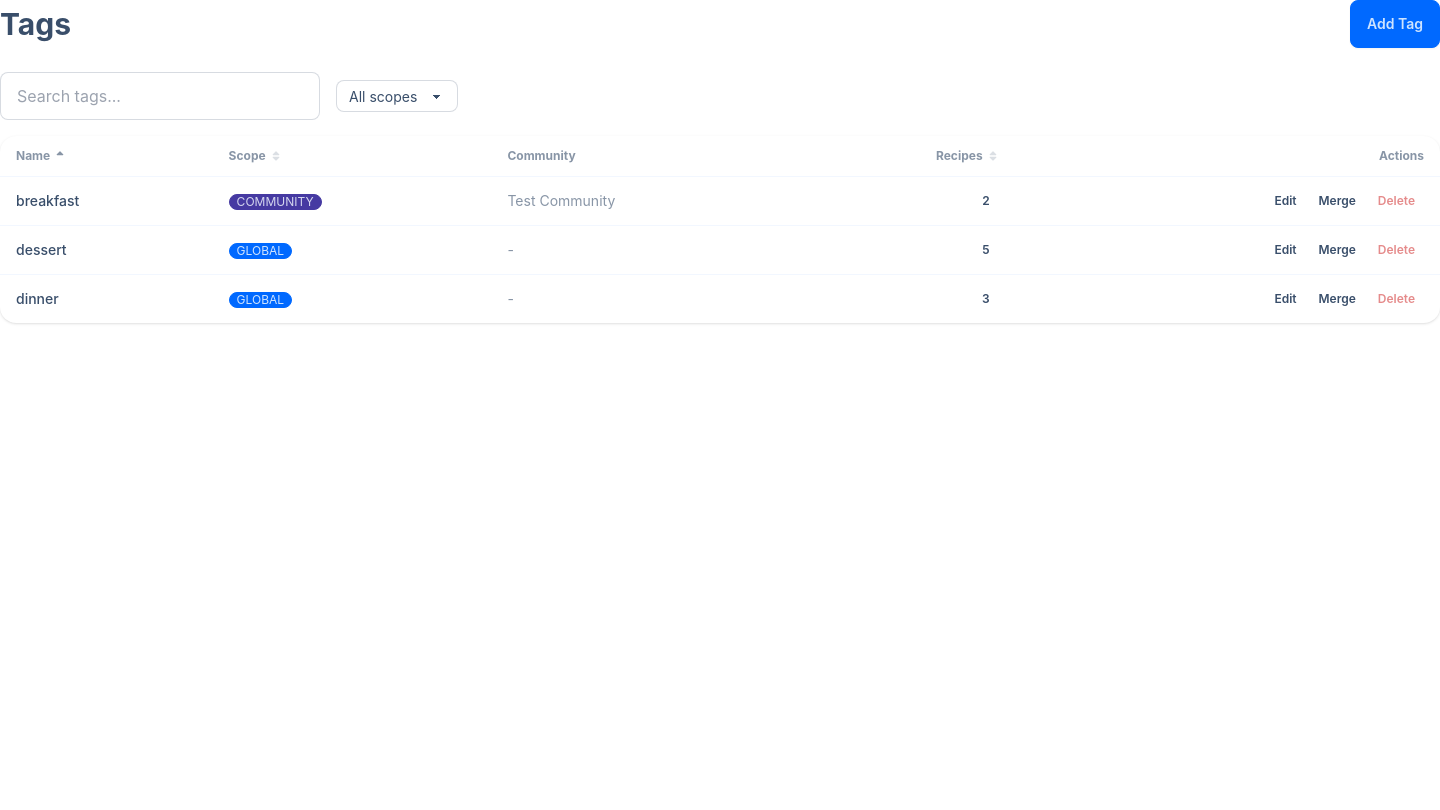
Test case: AdminTagsPage › should create a new tag
Click the button "Add Tag". click: x=1395, y=24
box: [1350, 0, 1439, 48]
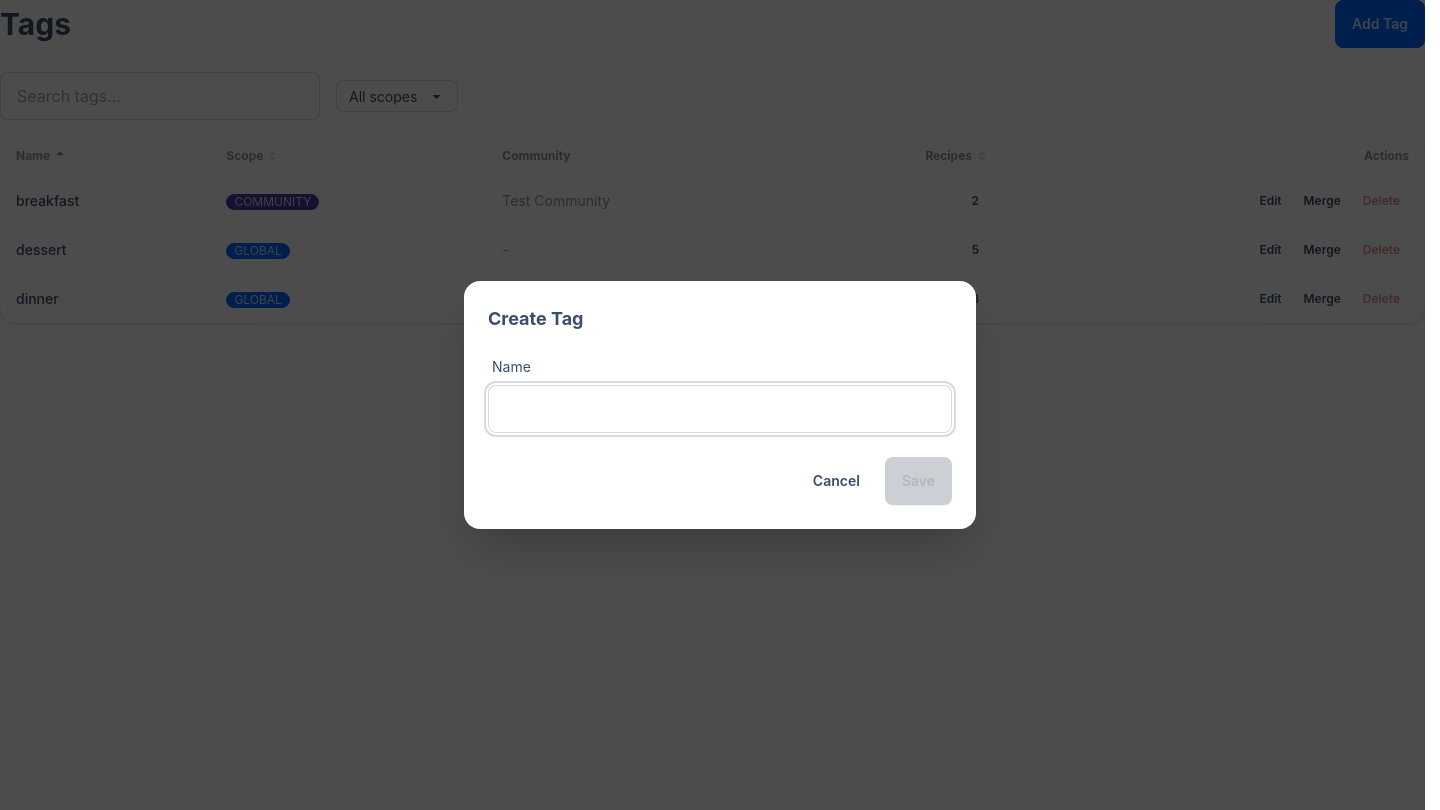
Note: Modal input is the last one (search is first)
Type "newtag" into the field. click: x=720, y=409
box: [488, 385, 952, 433]
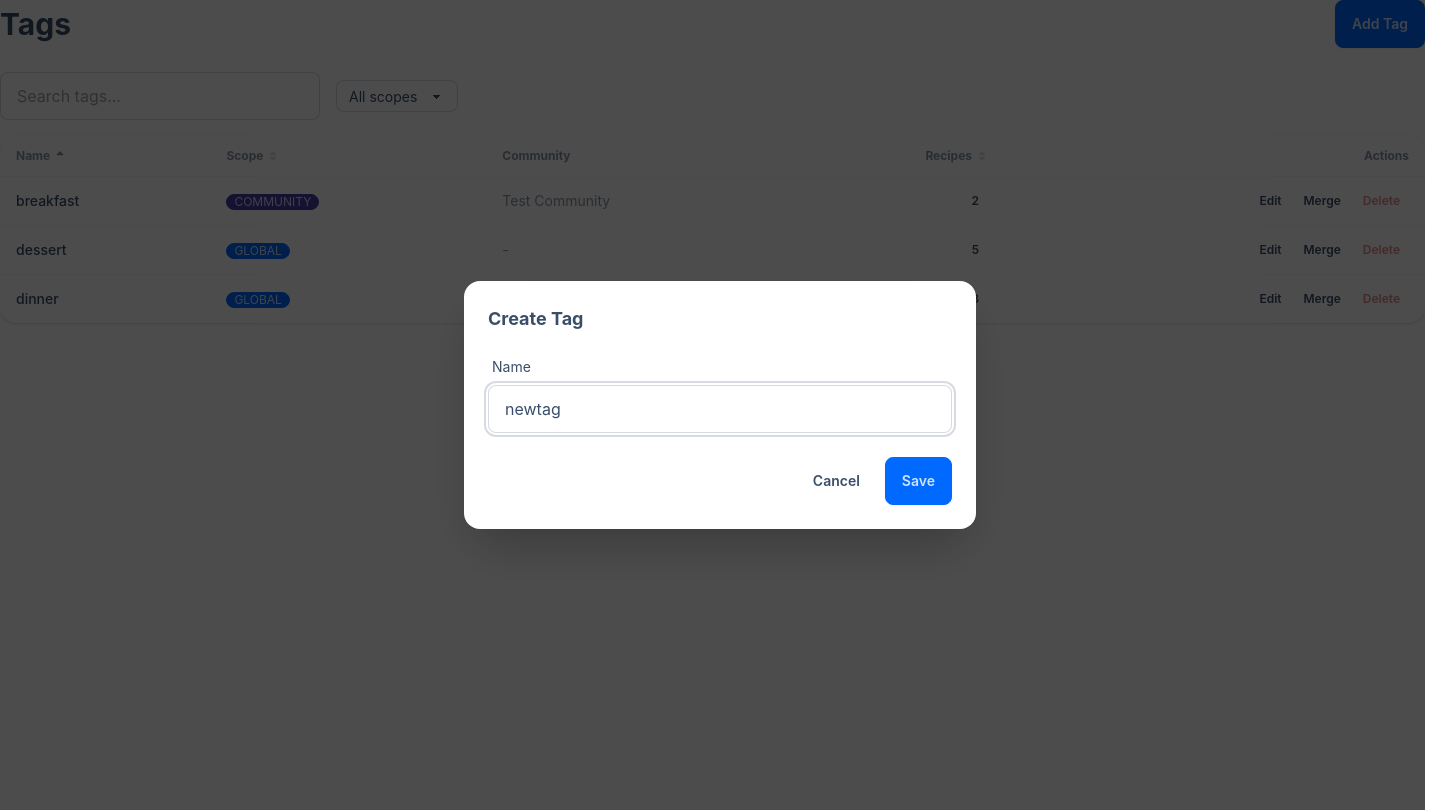
Click the button "Save". click: x=918, y=481
box: [885, 457, 952, 505]
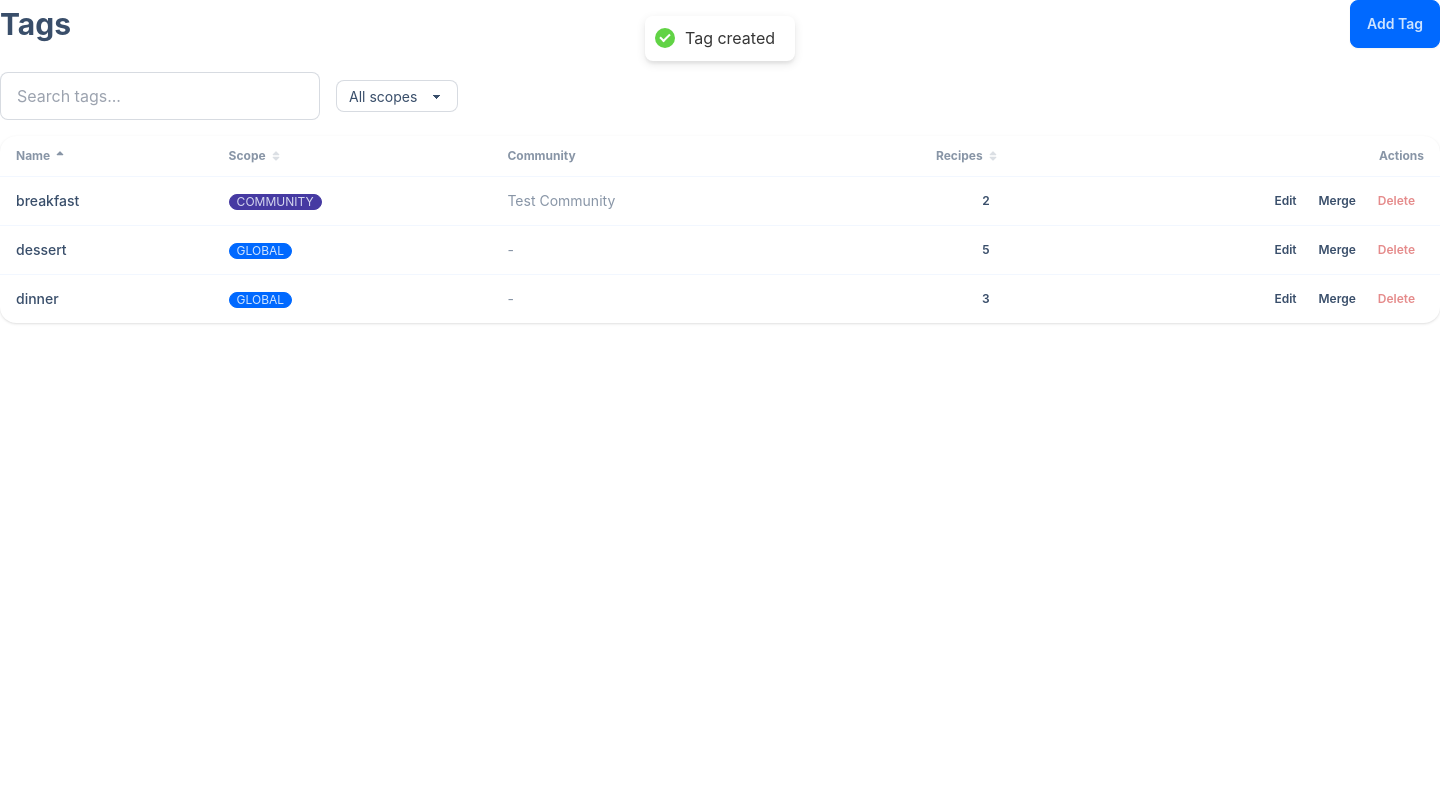
Now the text "Tag created" is shown, box [685, 28, 775, 49]
